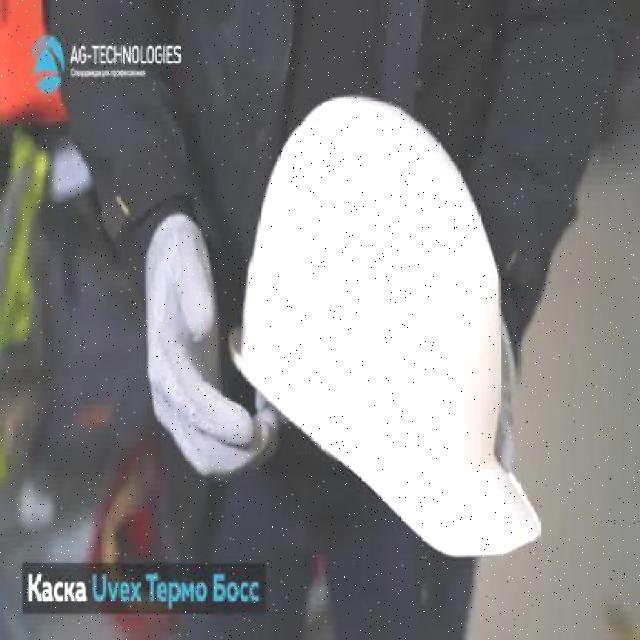Gloves: (144, 212, 281, 488)
Helmet: (228, 91, 546, 560)
